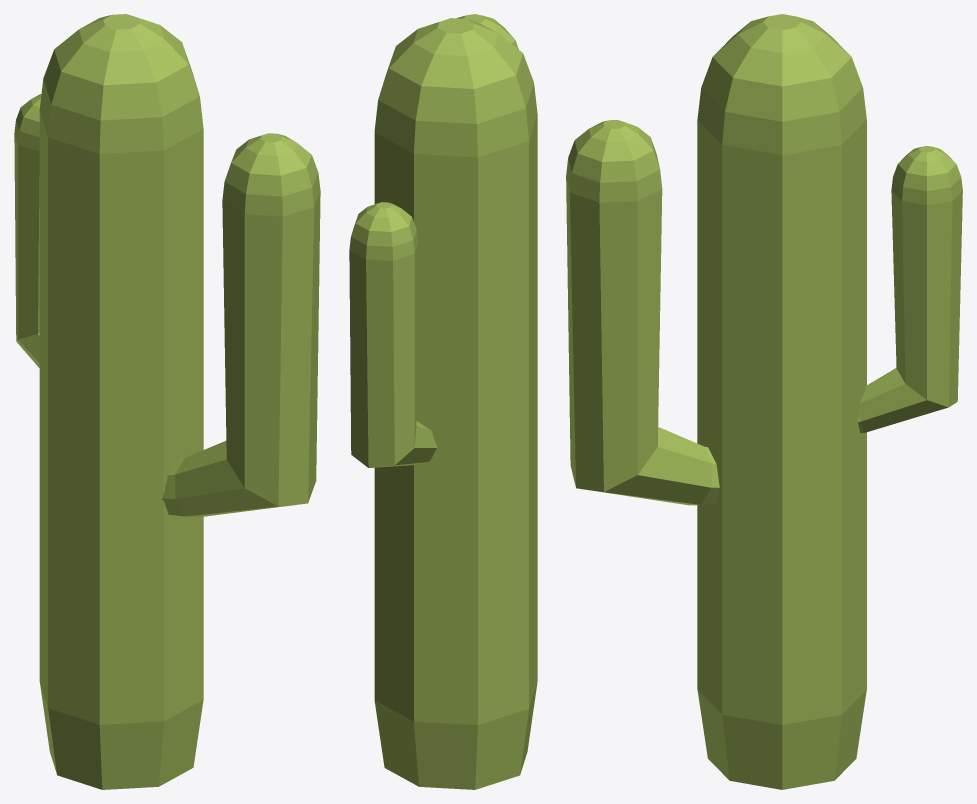
3 renders of one model, left to right at view 1: azimuth 30°, elevation 25°; view 2: azimuth 150°, elevation 25°; view 3: azimuth 270°, elevation 25°, orthographic.
Parts seen in each view (by area): view 1: Circle.007; view 2: Circle.007; view 3: Circle.007.
Boxes of the visible parts, <box> form: Circle.007: <box>14,14,320,789</box>; Circle.007: <box>349,14,537,789</box>; Circle.007: <box>566,14,962,789</box>.
Bounding box in the file's own units: 27.6 × 108 × 52.52.
